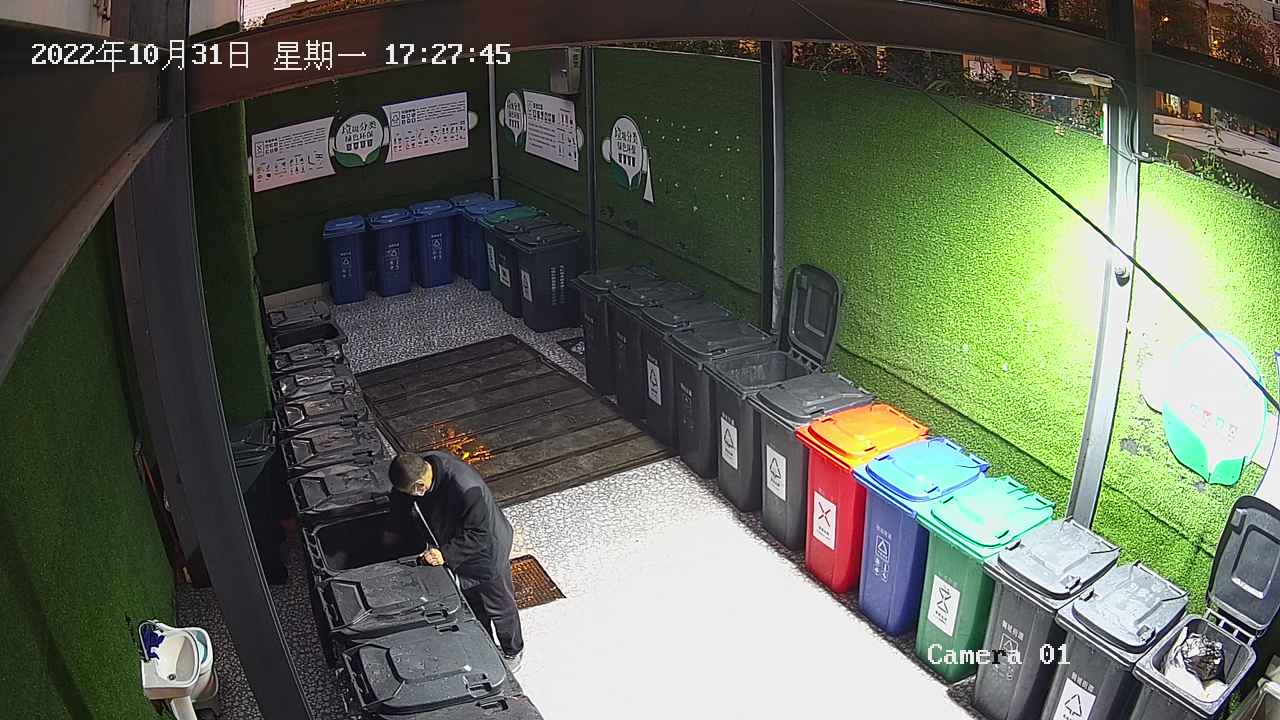person: (376, 448, 525, 678)
